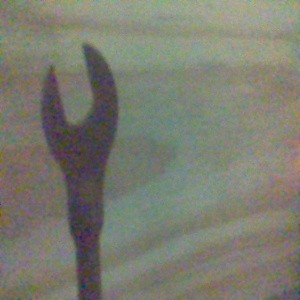spanner: (39, 42, 119, 300)
